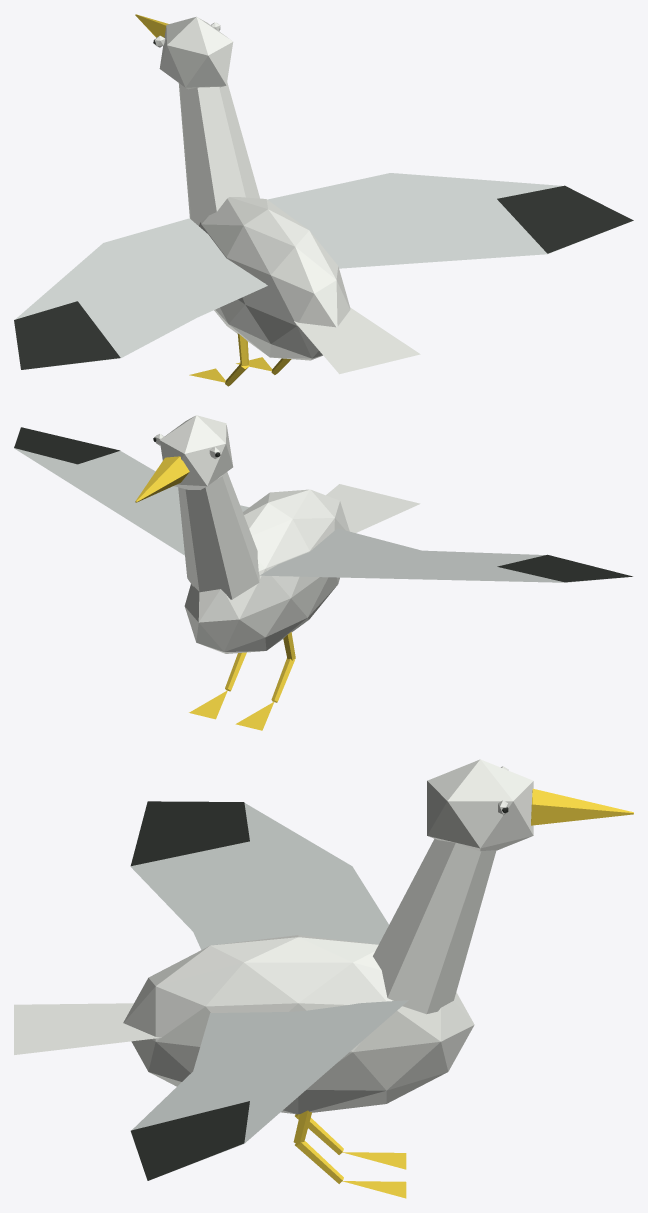
Rendered from Seagull.fbx.
The picture shows the model from 3 angles, top to bottom: view 1: azimuth 30°, elevation 25°; view 2: azimuth 150°, elevation 25°; view 3: azimuth 270°, elevation 25°; orthographic projection. The views are drawn at different scales.
Parts seen in each view (by area): view 1: WingSurface-1, WingSurface1, Body, Neck, WingTip-1, WingTip1, Head, Tail; view 2: Body, WingSurface1, Neck, WingSurface-1, Head, Tail, WingTip-1, WingTip1, Beak, WebFoot1, WebFoot-1; view 3: Body, WingSurface1, WingSurface-1, Neck, Head, WingTip1, Tail, WingTip-1, Beak.
Part boxes in pixels (x1,y1,x2,y2): WingSurface-1: [267, 173, 600, 268]; WingSurface1: [15, 218, 267, 368]; Body: [199, 197, 350, 360]; Neck: [178, 82, 259, 225]; WingTip-1: [497, 185, 633, 253]; WingTip1: [14, 301, 120, 369]; Head: [159, 16, 233, 89]; Tail: [294, 307, 420, 374]; Body: [184, 489, 349, 653]; WingSurface1: [260, 528, 624, 582]; Neck: [178, 472, 259, 599]; WingSurface-1: [14, 448, 248, 555]; Head: [159, 415, 233, 489]; Tail: [326, 484, 420, 532]; WingTip-1: [14, 427, 120, 464]; WingTip1: [497, 554, 632, 582]; Beak: [135, 456, 189, 502]; WebFoot1: [235, 701, 274, 730]; WebFoot-1: [189, 690, 227, 719]; Body: [123, 935, 474, 1114]; WingSurface1: [130, 803, 388, 949]; WingSurface-1: [130, 1000, 408, 1172]; Neck: [373, 839, 496, 1014]; Head: [427, 759, 533, 851]; WingTip1: [130, 801, 249, 865]; Tail: [14, 1003, 161, 1054]; WingTip-1: [131, 1101, 249, 1180]; Beak: [531, 788, 633, 825].
Size of the model in its own units: 1.58 by 0.808 by 1.09.
